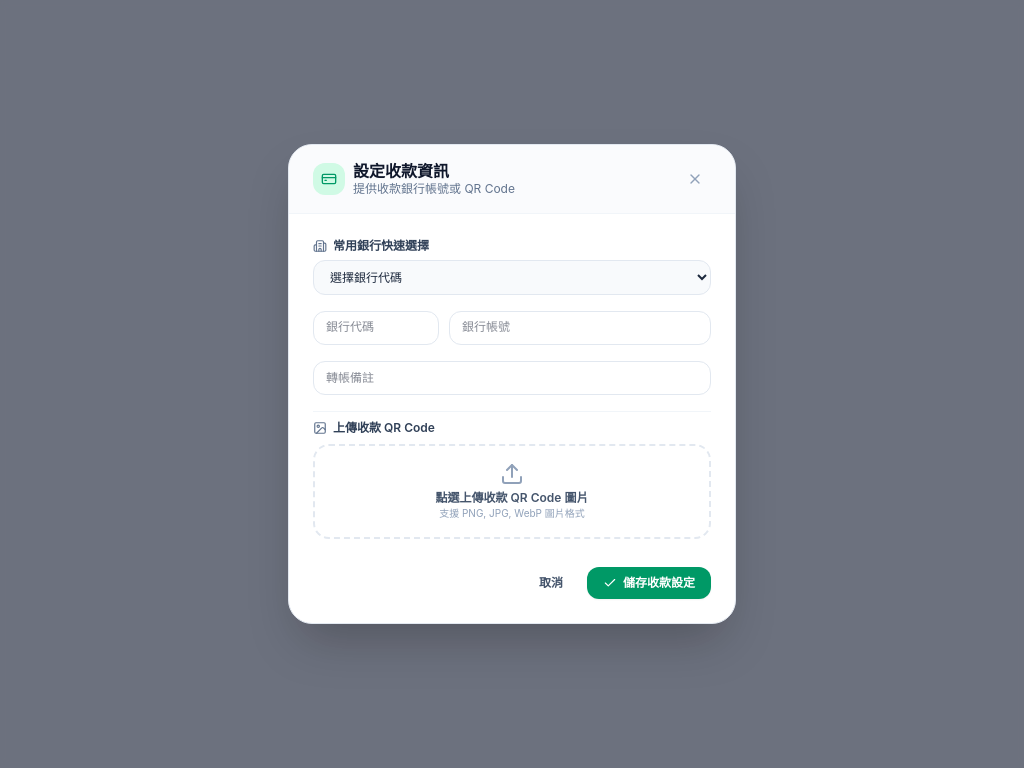
PaymentInfoEditor Component › allows selecting common Taiwan banks from quick preset selector
The image size is (1024, 768).
Select "013 國泰世華" in the dropdown labelled "常用銀行快速選擇": (512, 278) left=313, top=260, right=711, bottom=295
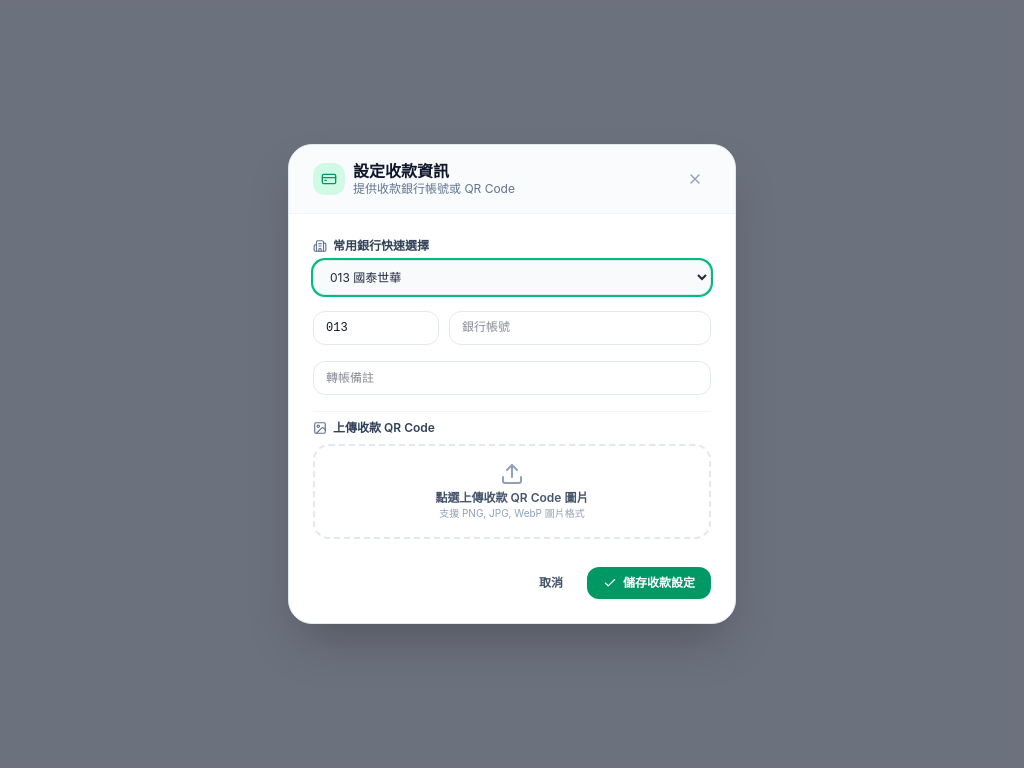
Check: the field named "銀行代碼" holds "013", box left=313, top=311, right=439, bottom=345
